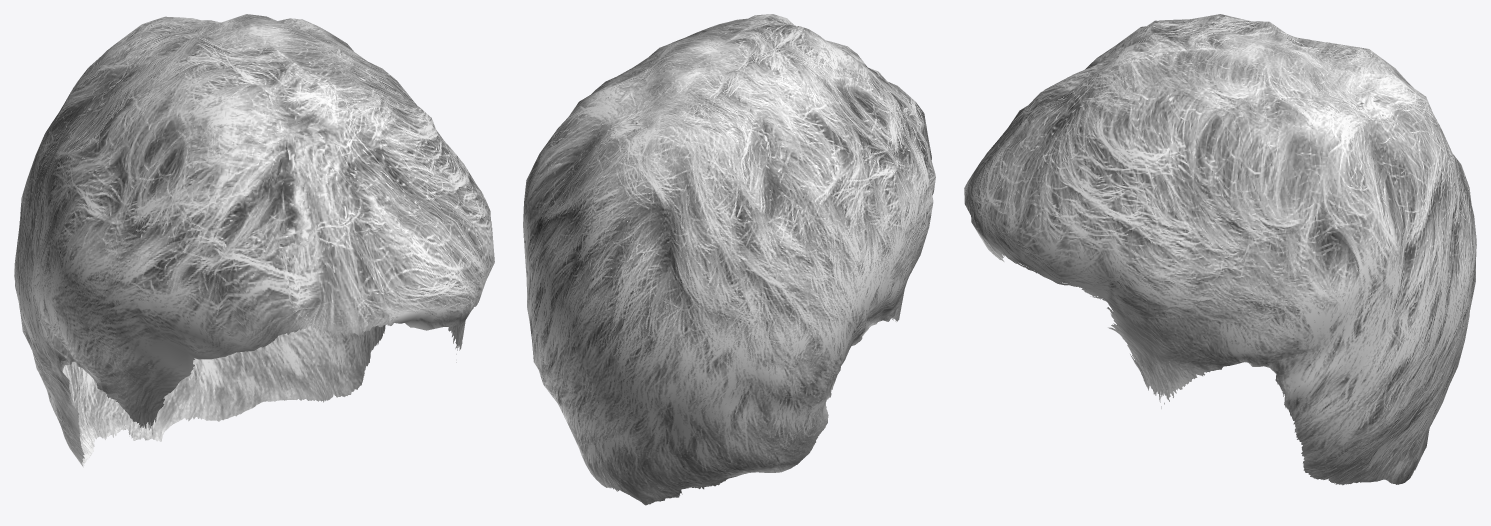
File: short.glb
3 views of the same model, side by side, from view 1: azimuth 30°, elevation 25°; view 2: azimuth 150°, elevation 25°; view 3: azimuth 270°, elevation 25° (orthographic). The views are drawn at different scales.
Parts seen in each view (by area): view 1: short; view 2: short; view 3: short.
Boxes of the visible parts, x1,y1,x2,y2 form: short: (14,14,494,467); short: (523,14,935,505); short: (964,14,1476,485).
Bounding box in the file's own units: 0.1741 × 0.2066 × 0.2183.
1 material, 1 textured.
